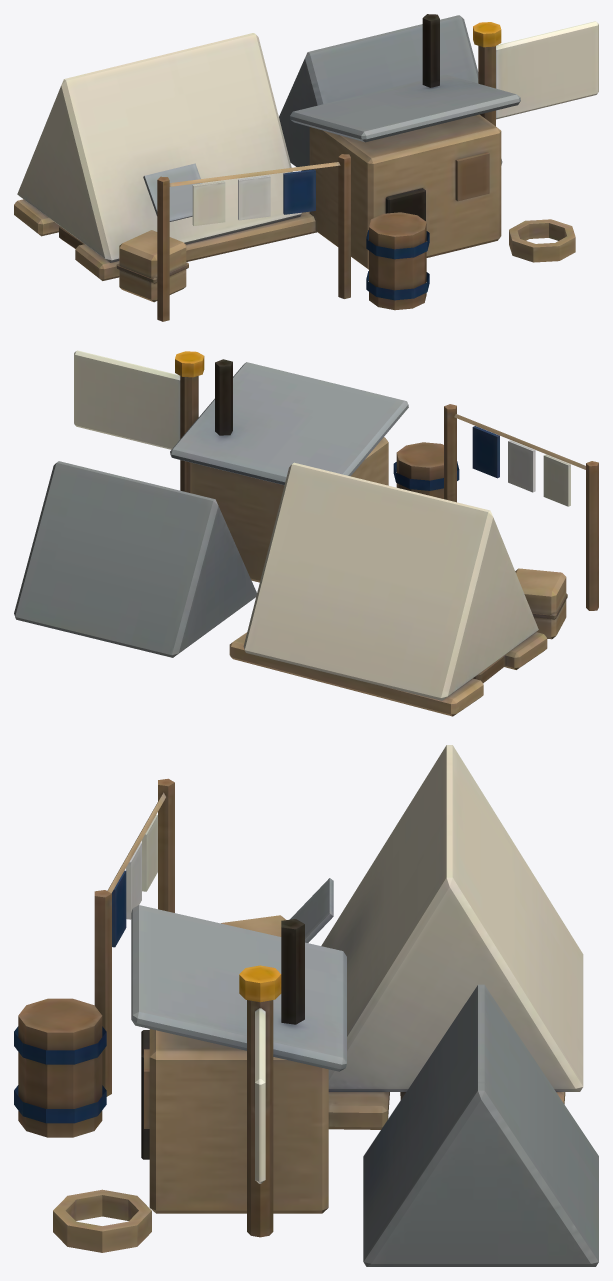
The model's file is shelters-1.glb.
3 views of the same model, one above another, from view 1: azimuth 30°, elevation 25°; view 2: azimuth 150°, elevation 25°; view 3: azimuth 270°, elevation 25° (orthographic). The views are drawn at different scales.
Visible parts, largest first — view 1: shelters-1; view 2: shelters-1; view 3: shelters-1.
Part boxes in pixels (left/top/right/bottom): shelters-1: left=14, top=14, right=598, bottom=321; shelters-1: left=14, top=350, right=598, bottom=716; shelters-1: left=14, top=745, right=598, bottom=1266.
Size of the model in its own units: 1.5 by 0.5805 by 1.11.
Materials: 1 (1 with a texture image).
